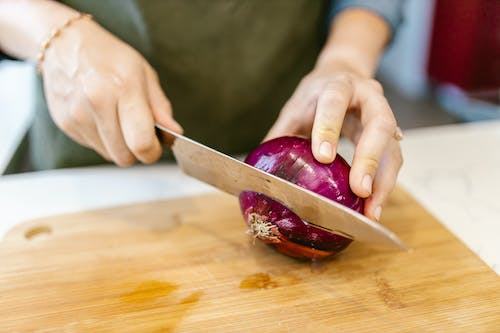knife: (153, 120, 403, 247)
